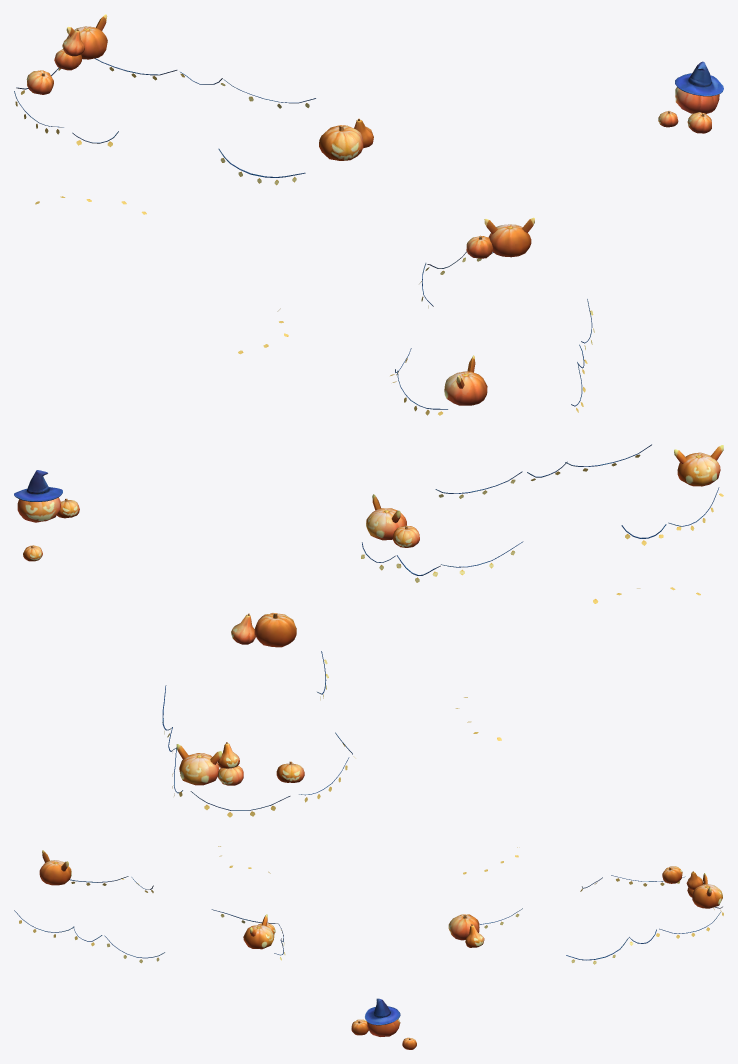
Rendered from pref_sm_4v4beachtech_WSJ_bk_decorate_C01_lv0.fbx.
3 views of the same model, one above another, from view 1: azimuth 30°, elevation 25°; view 2: azimuth 150°, elevation 25°; view 3: azimuth 270°, elevation 25° (orthographic). The views are drawn at different scales.
Parts seen in each view (by area): view 1: sm_4v4beachtech_WSJ_bk_decorate_C01_b_lv0, sm_4v4beachtech_WSJ_bk_decorate_C01_a_lv0; view 2: sm_4v4beachtech_WSJ_bk_decorate_C01_b_lv0, sm_4v4beachtech_WSJ_bk_decorate_C01_a_lv0; view 3: sm_4v4beachtech_WSJ_bk_decorate_C01_b_lv0, sm_4v4beachtech_WSJ_bk_decorate_C01_a_lv0.
Part boxes in pixels (bbox=[...]): sm_4v4beachtech_WSJ_bk_decorate_C01_b_lv0: bbox=[26, 14, 723, 405]; sm_4v4beachtech_WSJ_bk_decorate_C01_a_lv0: bbox=[14, 58, 594, 415]; sm_4v4beachtech_WSJ_bk_decorate_C01_b_lv0: bbox=[14, 445, 723, 785]; sm_4v4beachtech_WSJ_bk_decorate_C01_a_lv0: bbox=[162, 444, 723, 817]; sm_4v4beachtech_WSJ_bk_decorate_C01_b_lv0: bbox=[39, 850, 722, 1049]; sm_4v4beachtech_WSJ_bk_decorate_C01_a_lv0: bbox=[14, 846, 723, 964].
Bounding box in the file's own units: 23.9 × 3.35 × 34.01.
